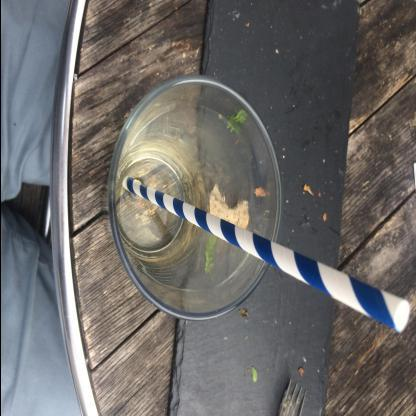plastik: (121, 175, 411, 333)
